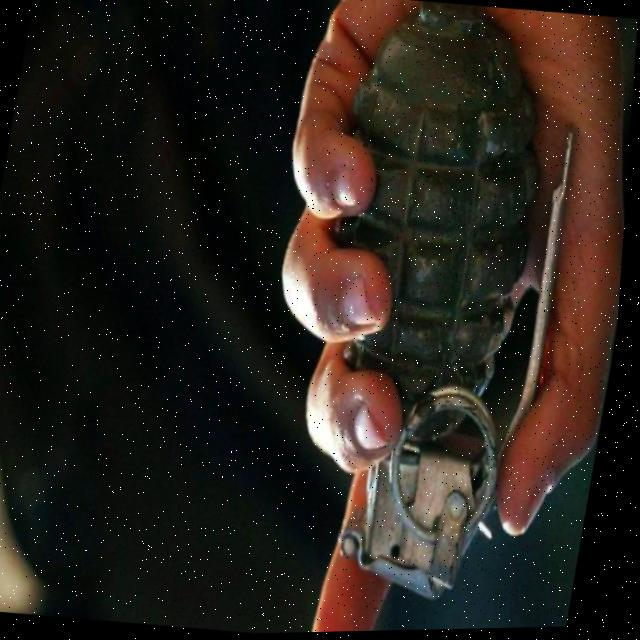grenade: (237, 0, 640, 635)
